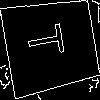T: (25, 21, 73, 59)
